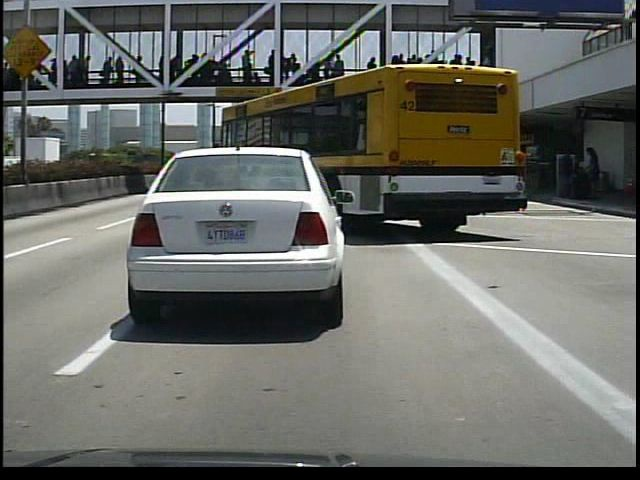person: (556, 142, 584, 203), (581, 144, 609, 205)
